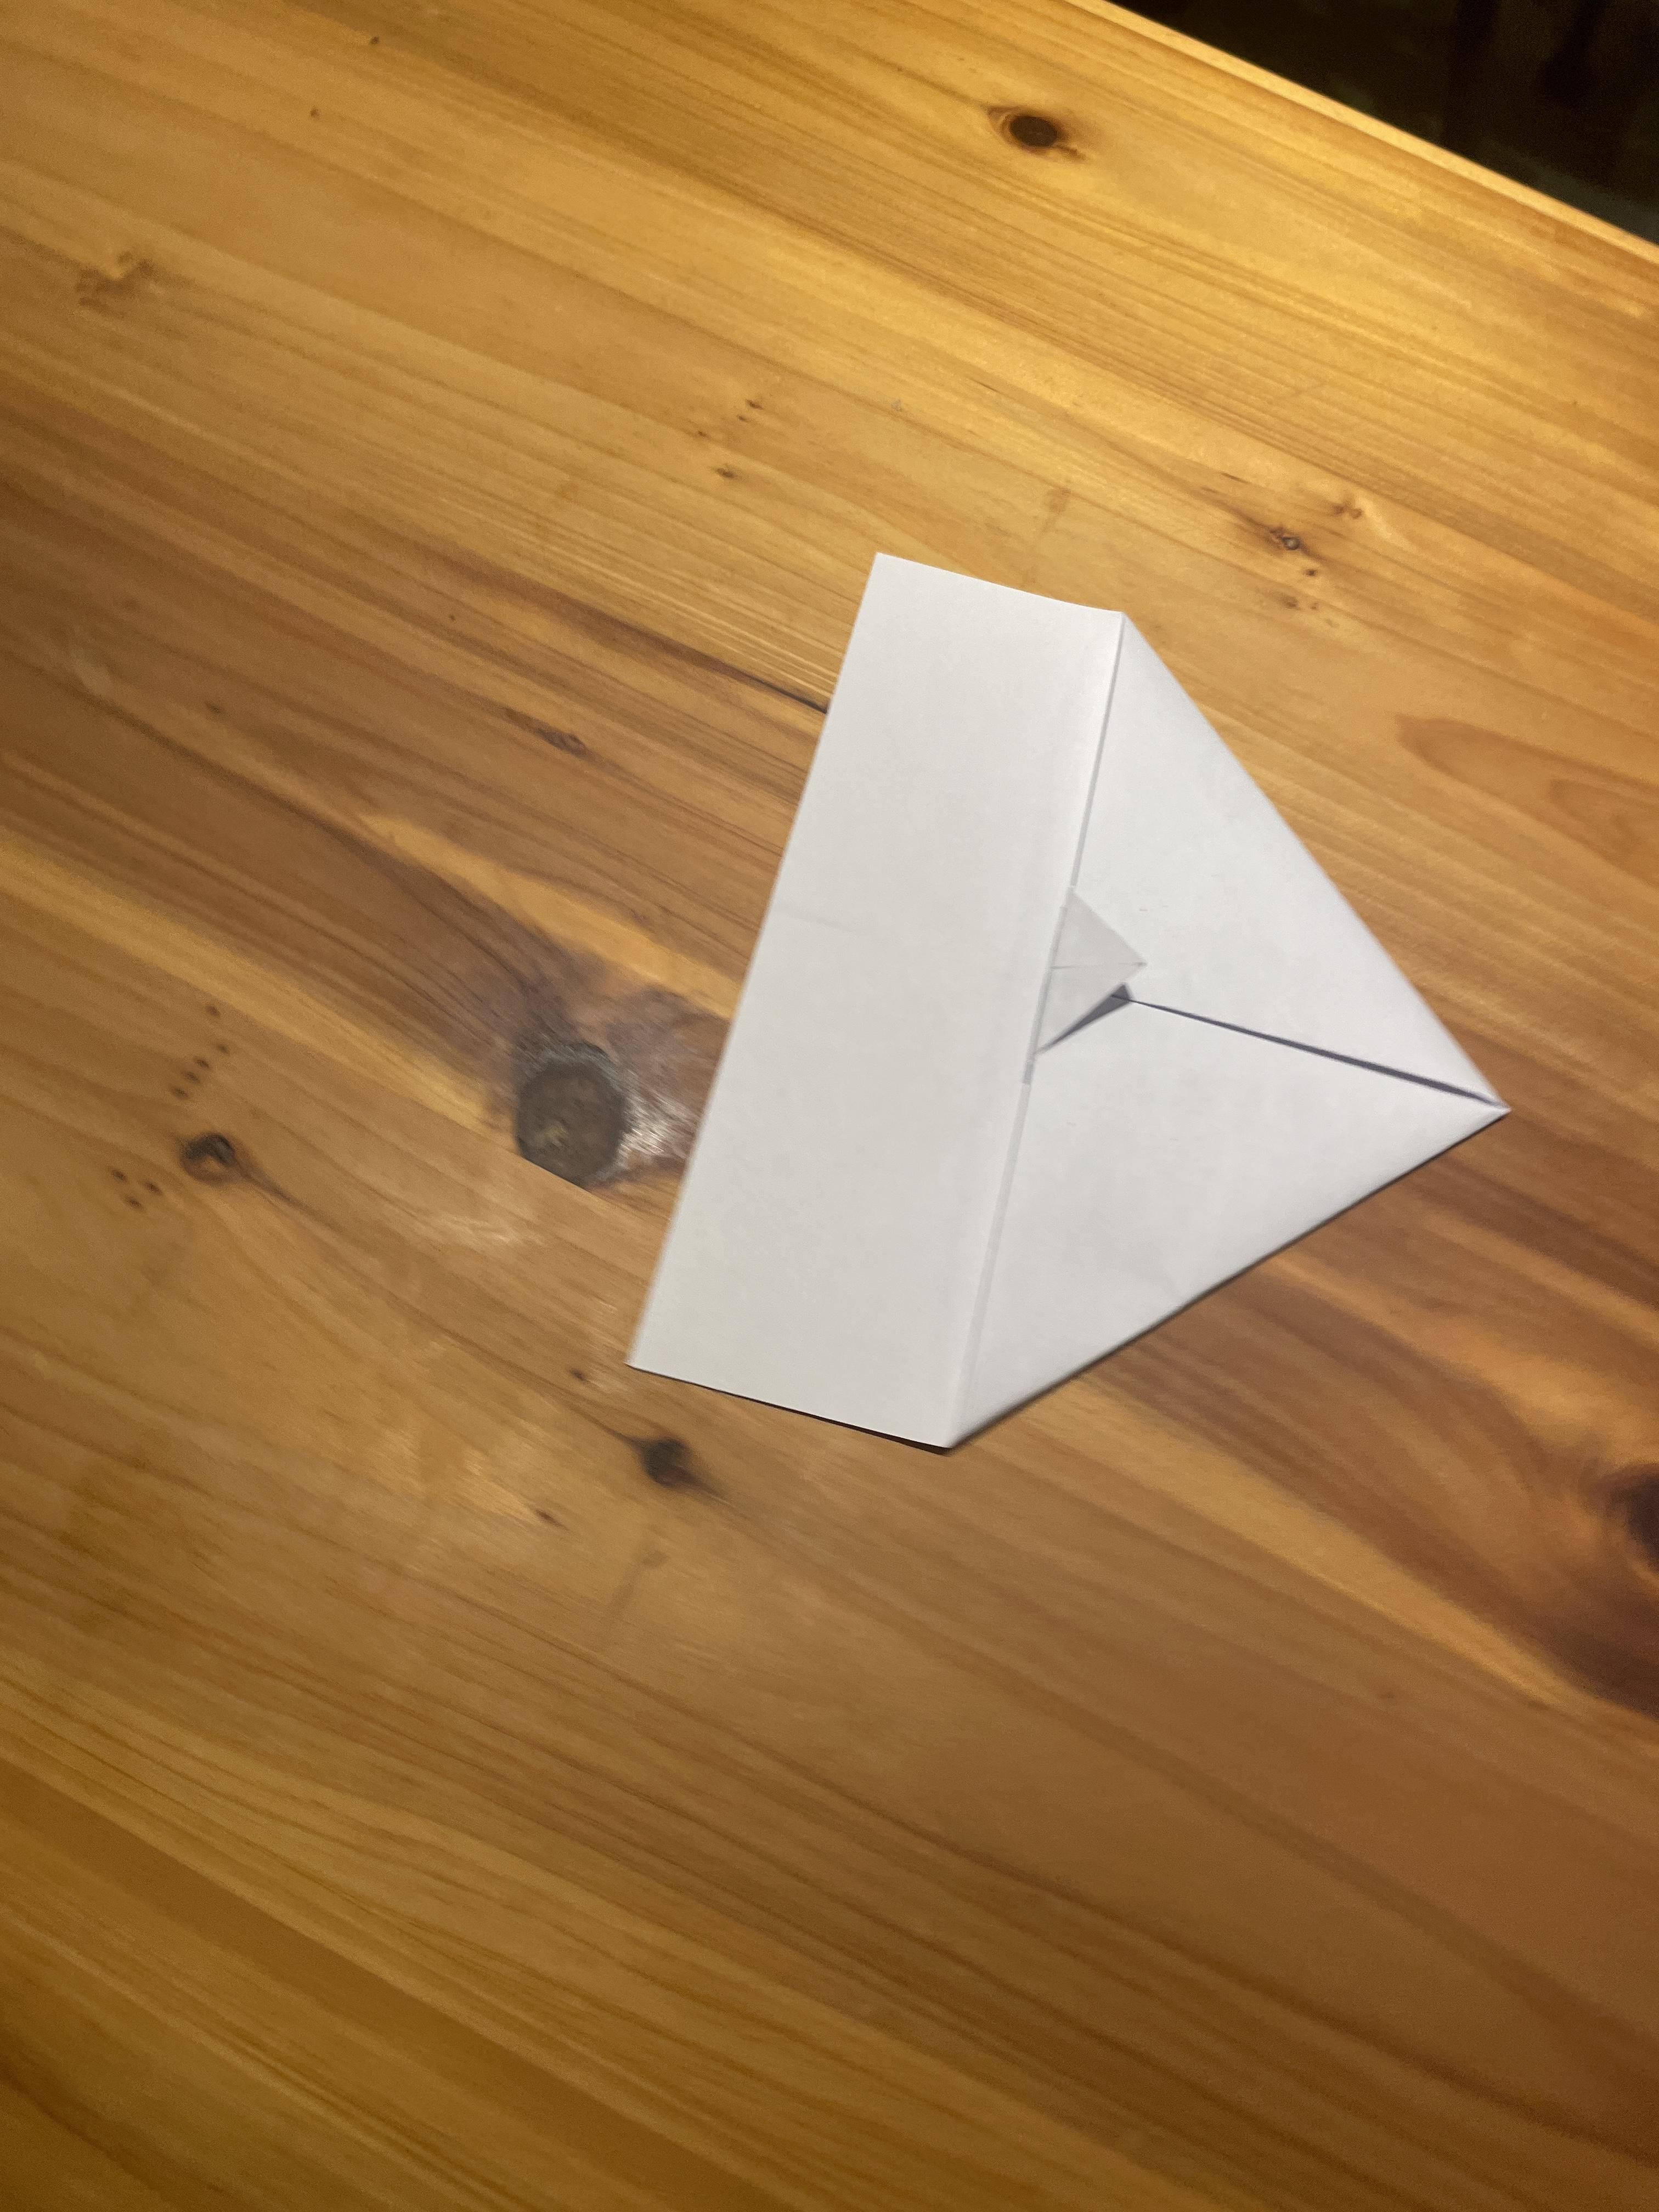shape_2: (505, 347, 1596, 1634)
